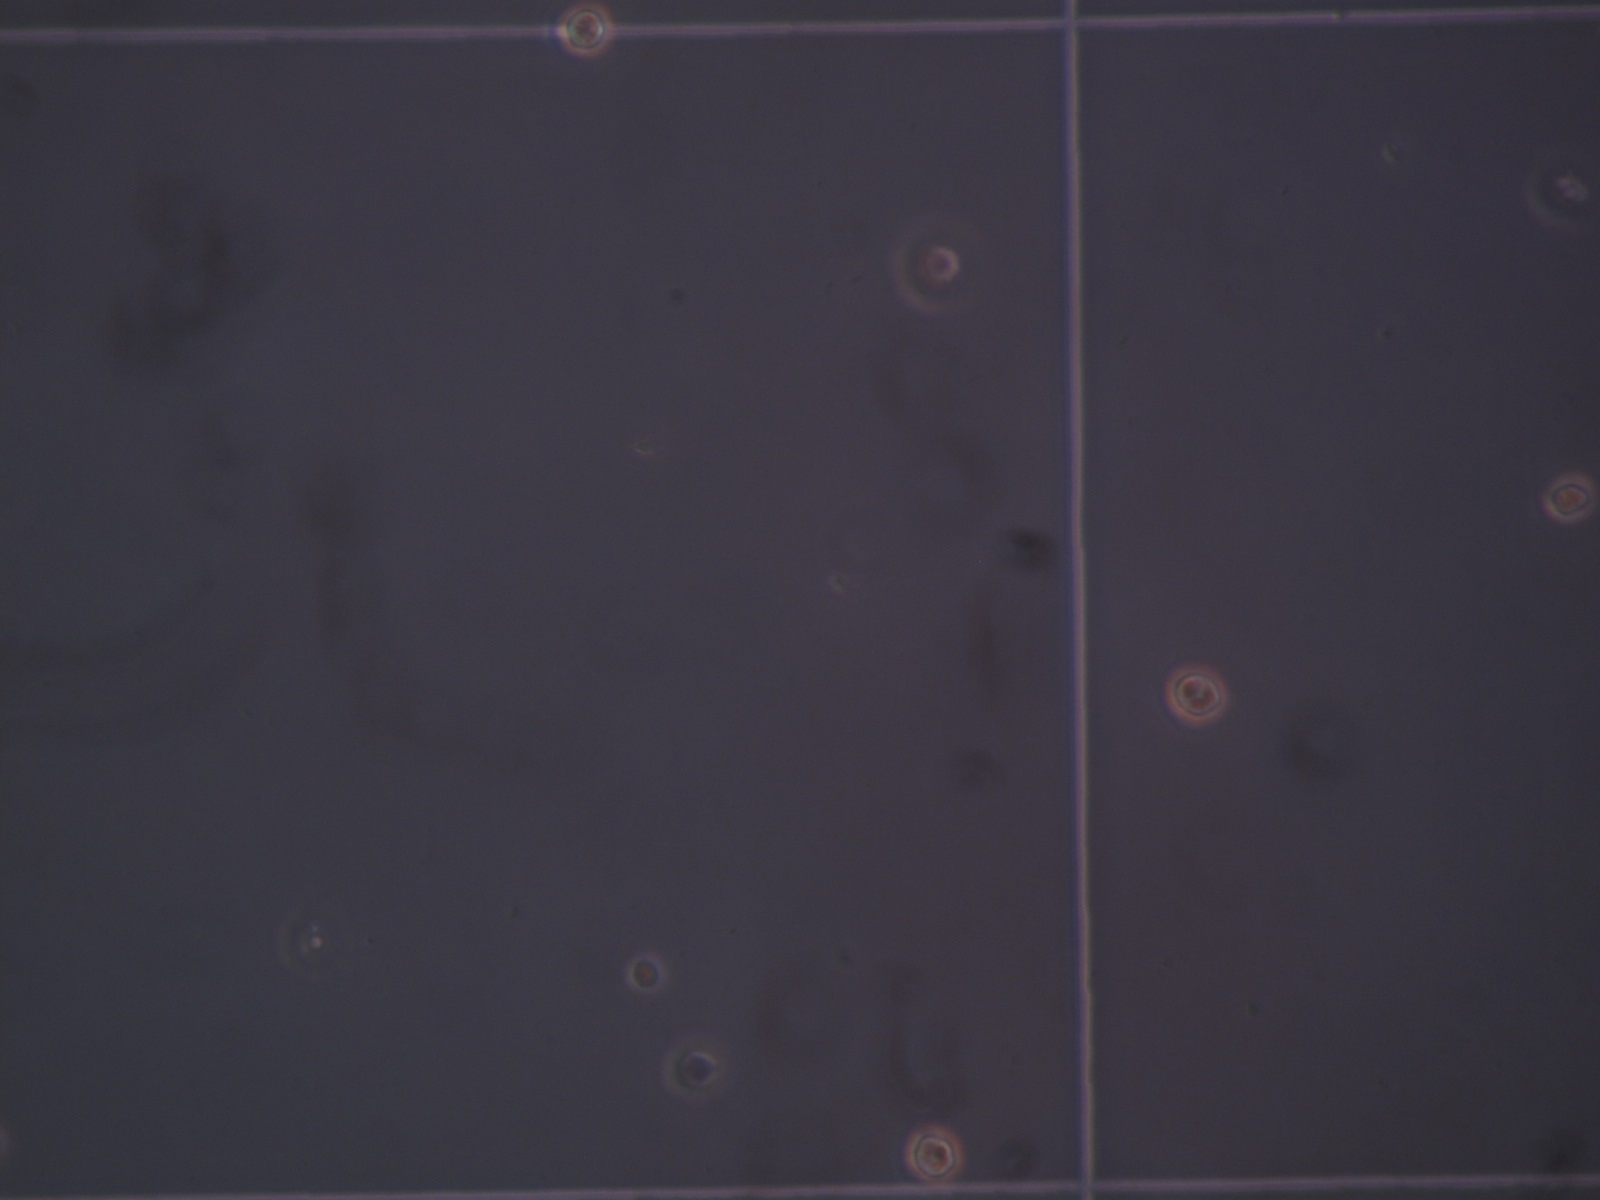hemo: (891, 221, 963, 315), (1523, 163, 1592, 233), (661, 1037, 721, 1103), (1167, 666, 1228, 725), (905, 1124, 964, 1185), (557, 3, 614, 57), (1543, 474, 1596, 523), (626, 952, 666, 993)
